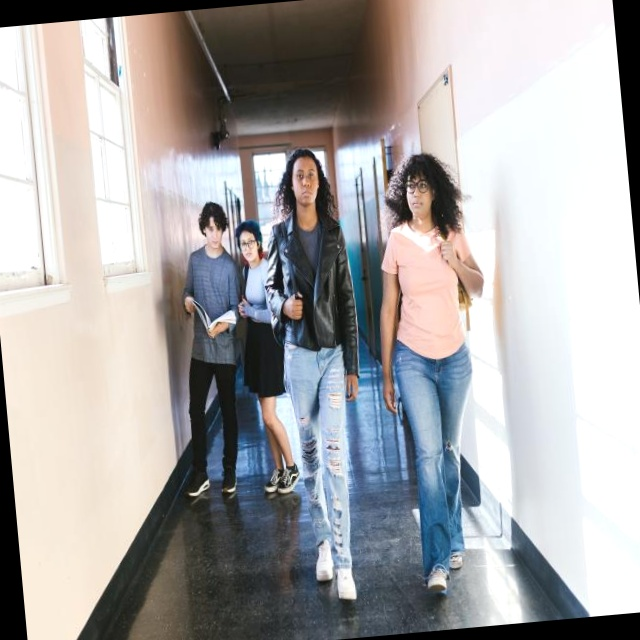Miniskirt: (237, 315, 294, 466)
ripped_pants: (281, 330, 363, 575)
